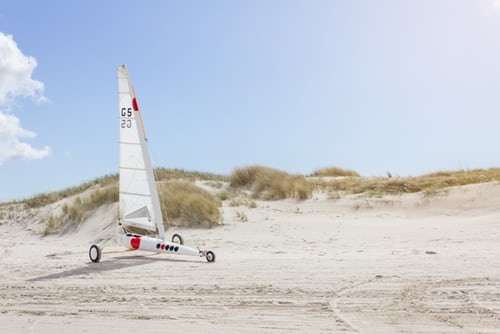yacht: (82, 66, 228, 272)
